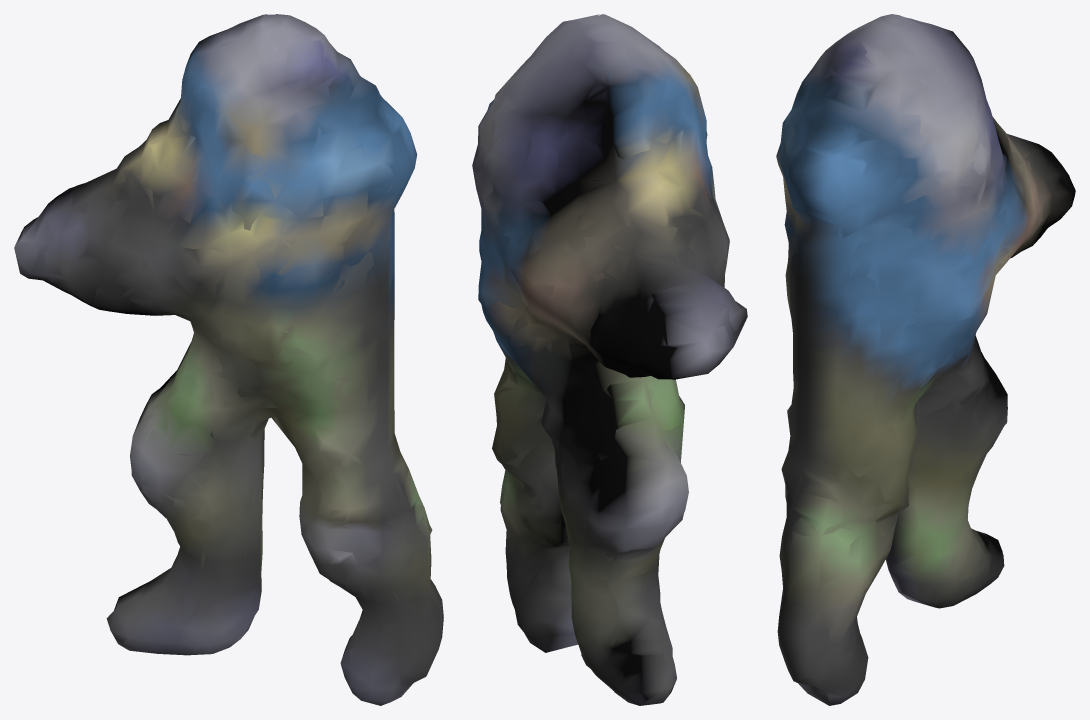
The model's file is allied_gi.glb.
3 views of the same model, side by side, from view 1: azimuth 30°, elevation 25°; view 2: azimuth 150°, elevation 25°; view 3: azimuth 270°, elevation 25° (orthographic). The views are drawn at different scales.
Parts seen in each view (by area): view 1: allied_gi; view 2: allied_gi; view 3: allied_gi.
Boxes of the visible parts, x1=… form: allied_gi: x1=14, y1=14, x2=443, y2=705; allied_gi: x1=472, y1=14, x2=747, y2=705; allied_gi: x1=776, y1=14, x2=1075, y2=705.
Size of the model in its own units: 1.1 by 2.22 by 0.9364.
